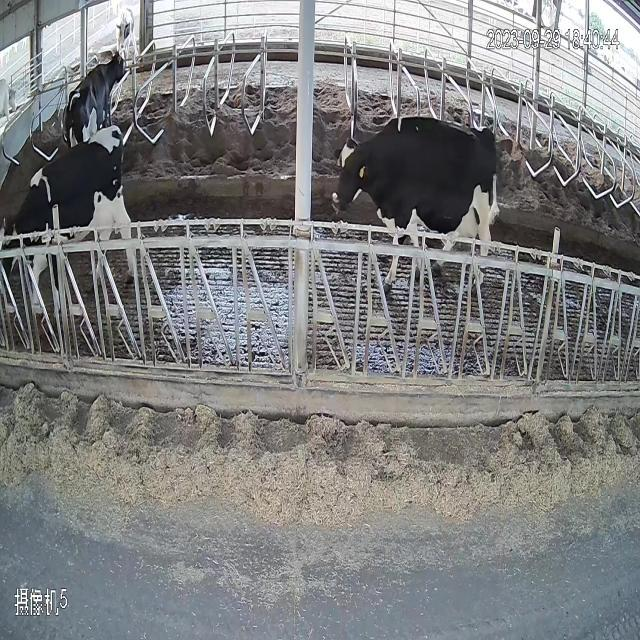standing: (332, 102, 512, 304), (0, 122, 138, 343), (58, 47, 136, 151), (106, 0, 141, 65)
